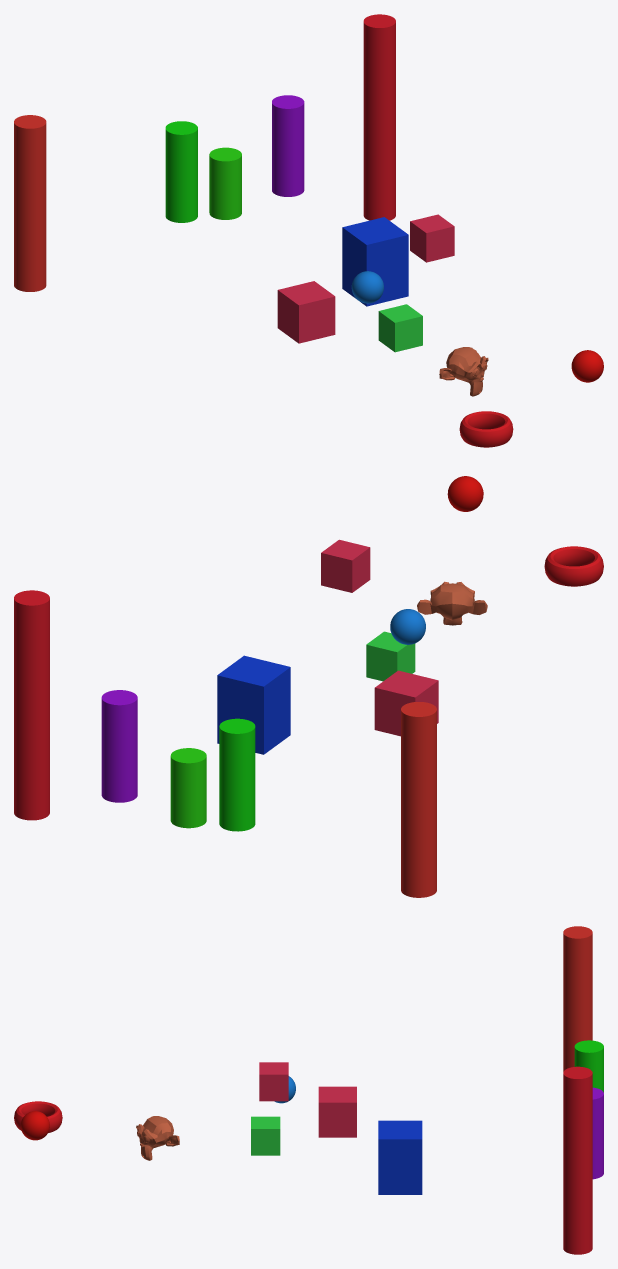
3 renders of one model, top to bottom at view 1: azimuth 30°, elevation 25°; view 2: azimuth 150°, elevation 25°; view 3: azimuth 270°, elevation 25°, orthographic. The views are drawn at different scales.
Visible parts, largest first — view 1: Suzanne; view 2: Suzanne; view 3: Suzanne.
Part boxes in pixels (bbox=[...]): Suzanne: bbox=[14, 14, 603, 447]; Suzanne: bbox=[14, 476, 603, 897]; Suzanne: bbox=[14, 926, 603, 1254].
Bounding box in the file's own units: 26.83 × 13.17 × 40.11.
